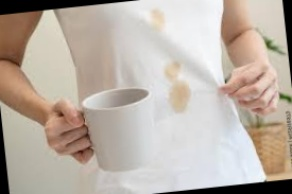coffee: (168, 79, 192, 115), (148, 7, 167, 33), (163, 61, 184, 82)
